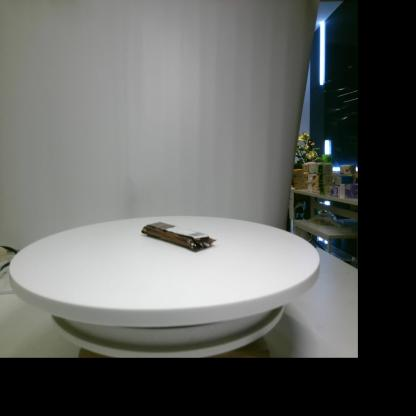Chocolate: (142, 222, 216, 253)
